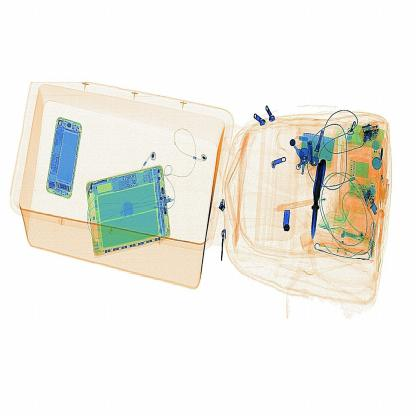gun: (305, 143, 335, 237)
